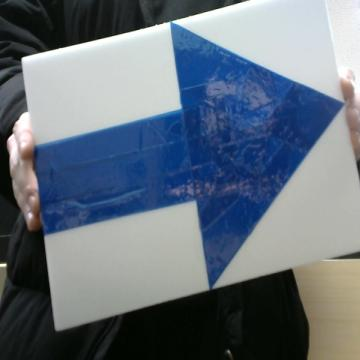blue_right: (35, 23, 340, 287)
